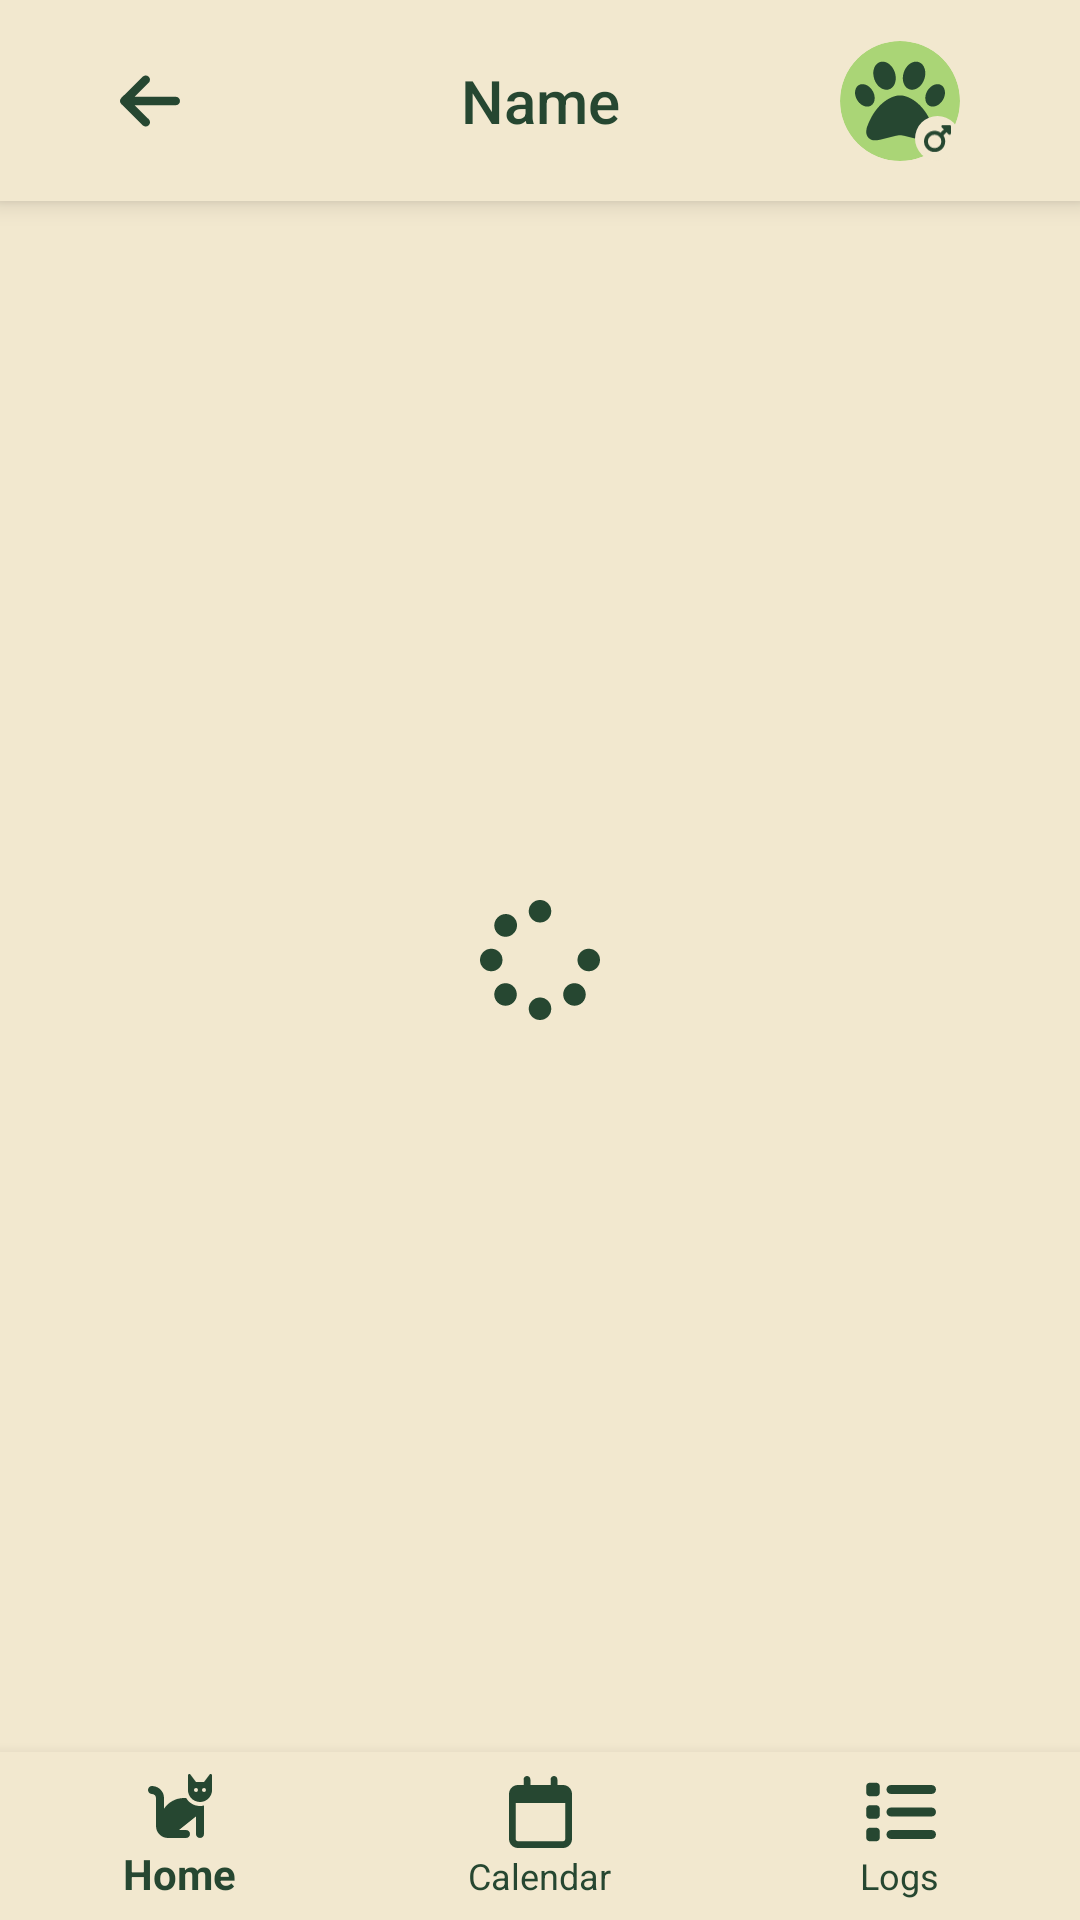

Where icons sit on this 1080px×1920px app screen, as (x1, y1, x2, y2):
arrow left: (120, 75, 180, 127)
spinner: (480, 900, 600, 1020)
